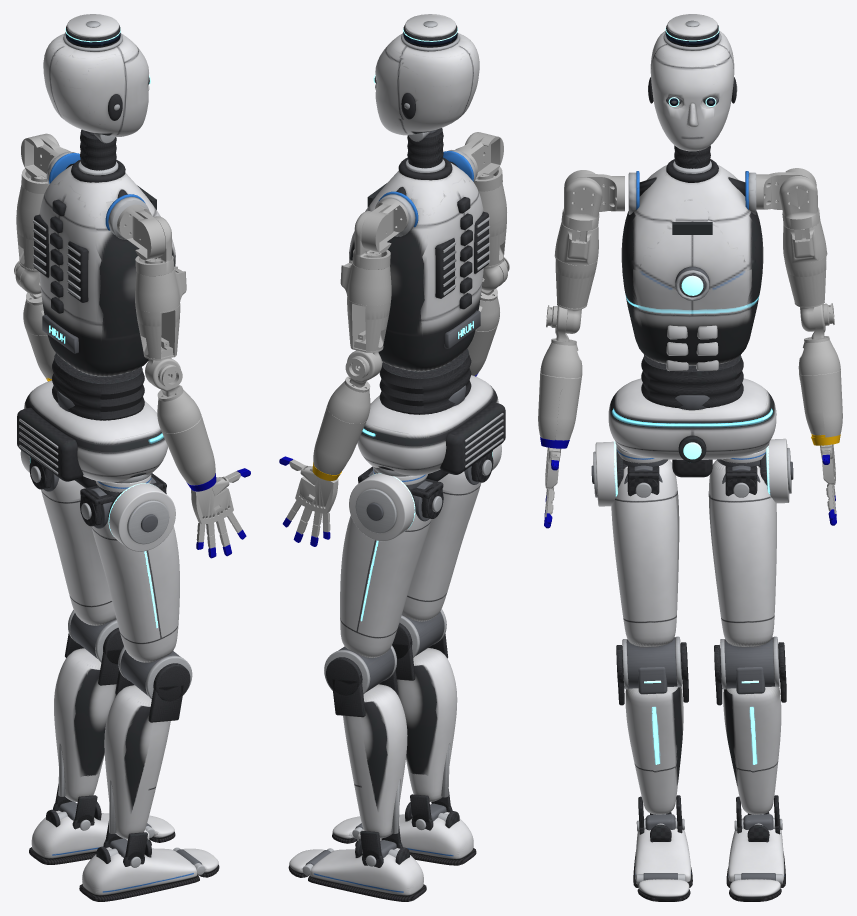
The model's file is hruh_robot_walk.glb.
3 renders of one model, left to right at view 1: azimuth 30°, elevation 25°; view 2: azimuth 150°, elevation 25°; view 3: azimuth 270°, elevation 25°, orthographic. The views are drawn at different scales.
Parts seen in each view (by area): view 1: V_chest_hruh, V_head_base, V_pelvis_link, V_right_shin_link, V_right_thigh_link, V_left_shin_link, V_left_thigh_link, V_right_foot_link, V_waist_yaw_link, V_right_hip_roll_link, V_left_foot_link, V_right_forarm_lower_1 (+18 smaller); view 2: V_chest_hruh, V_left_shin_link, V_head_base, V_left_thigh_link, V_pelvis_link, V_right_shin_link, V_right_thigh_link, V_left_foot_link, V_waist_yaw_link, V_left_hip_roll_link, V_right_foot_link, V_Left_forarm_lower_1 (+19 smaller); view 3: V_chest_hruh, V_right_thigh_link, V_left_thigh_link, V_pelvis_link, V_head_base, V_right_shin_link, V_left_shin_link, V_waist_yaw_link, V_right_foot_link, V_left_foot_link, V_left_S_to_Bisecp, V_right_S_to_Bisecp (+19 smaller).
Boxes of the visible parts, left/top/right/bottom form: V_chest_hruh: left=33, top=151, right=175, bottom=376; V_head_base: left=43, top=14, right=150, bottom=136; V_pelvis_link: left=17, top=380, right=167, bottom=487; V_right_shin_link: left=103, top=663, right=190, bottom=867; V_right_thigh_link: left=91, top=491, right=192, bottom=699; V_left_shin_link: left=53, top=627, right=123, bottom=830; V_left_thigh_link: left=41, top=478, right=118, bottom=662; V_right_foot_link: left=79, top=838, right=205, bottom=901; V_waist_yaw_link: left=52, top=353, right=144, bottom=420; V_right_hip_roll_link: left=91, top=477, right=175, bottom=551; V_left_foot_link: left=29, top=802, right=154, bottom=864; V_right_forarm_lower_1: left=161, top=414, right=215, bottom=485; V_chest_hruh: left=349, top=150, right=490, bottom=371; V_left_shin_link: left=326, top=657, right=407, bottom=867; V_head_base: left=373, top=14, right=479, bottom=135; V_left_thigh_link: left=324, top=485, right=431, bottom=694; V_pelvis_link: left=357, top=375, right=505, bottom=481; V_right_shin_link: left=392, top=623, right=457, bottom=830; V_right_thigh_link: left=399, top=471, right=481, bottom=657; V_left_foot_link: left=302, top=838, right=426, bottom=901; V_waist_yaw_link: left=379, top=348, right=471, bottom=414; V_left_hip_roll_link: left=349, top=470, right=432, bottom=541; V_right_foot_link: left=352, top=802, right=476, bottom=865; V_Left_forarm_lower_1: left=313, top=406, right=366, bottom=474; V_chest_hruh: left=621, top=159, right=763, bottom=371; V_right_thigh_link: left=611, top=449, right=681, bottom=689; V_left_thigh_link: left=708, top=453, right=779, bottom=689; V_pelvis_link: left=608, top=378, right=776, bottom=477; V_head_base: left=648, top=14, right=737, bottom=151; V_right_shin_link: left=616, top=642, right=688, bottom=834; V_left_shin_link: left=714, top=642, right=786, bottom=834; V_waist_yaw_link: left=641, top=355, right=743, bottom=407; V_right_foot_link: left=633, top=812, right=692, bottom=888; V_left_foot_link: left=726, top=812, right=785, bottom=887; V_left_S_to_Bisecp: left=779, top=176, right=820, bottom=229; V_right_S_to_Bisecp: left=561, top=177, right=602, bottom=230.
Size of the model in its own units: 0.3157 by 1.59 by 0.5299.
Materials: 23 (19 with a texture image).
